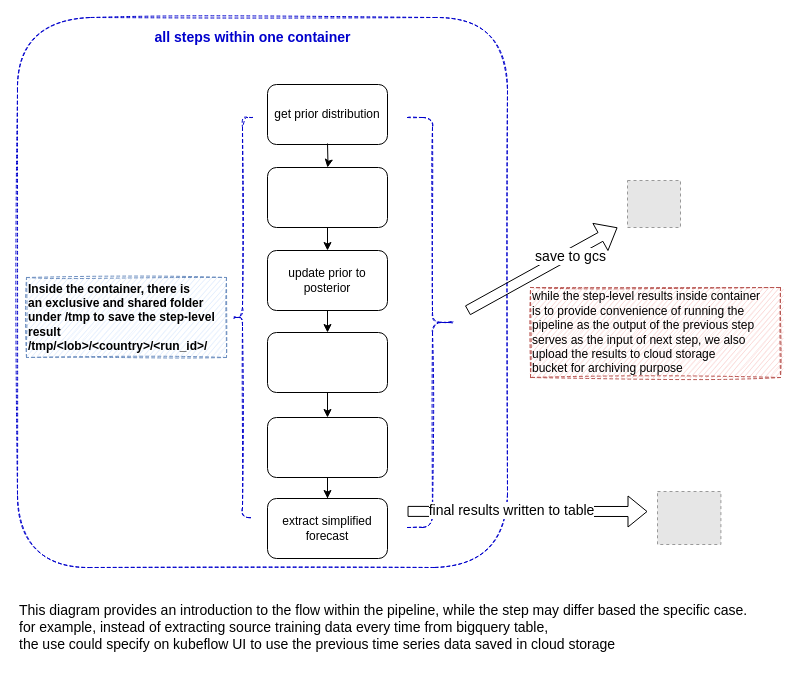
The diagram is 798 pixels wide and 675 high, and some of its shapes have lost their labels. Grey dashed boxes stand in for pictures. Each missing label, with the box of its shape:
extract time series from source training data: (266, 166, 388, 228)
generate time series data: (266, 332, 388, 392)
ucm simulation: (266, 416, 388, 478)
